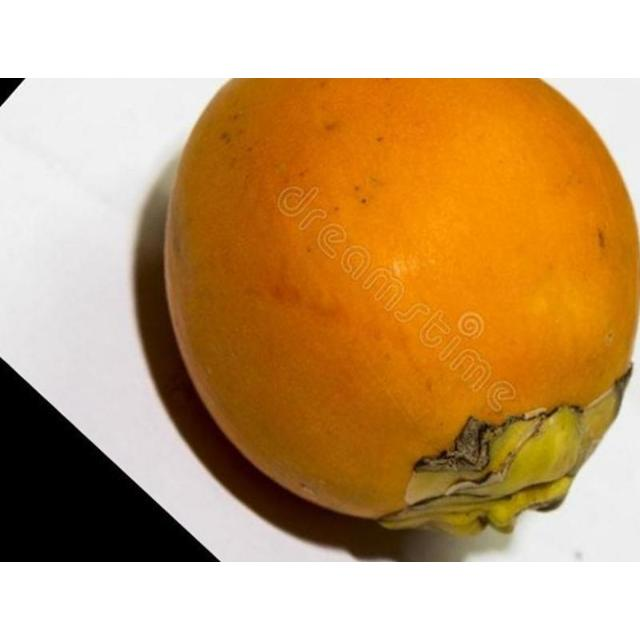good: (160, 78, 639, 540)
